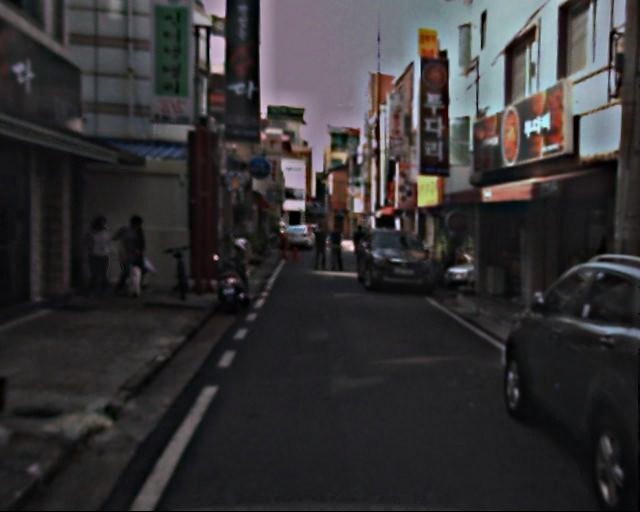person: (83, 213, 126, 295), (119, 213, 157, 296), (310, 224, 330, 273), (350, 224, 370, 273), (327, 228, 345, 272)
